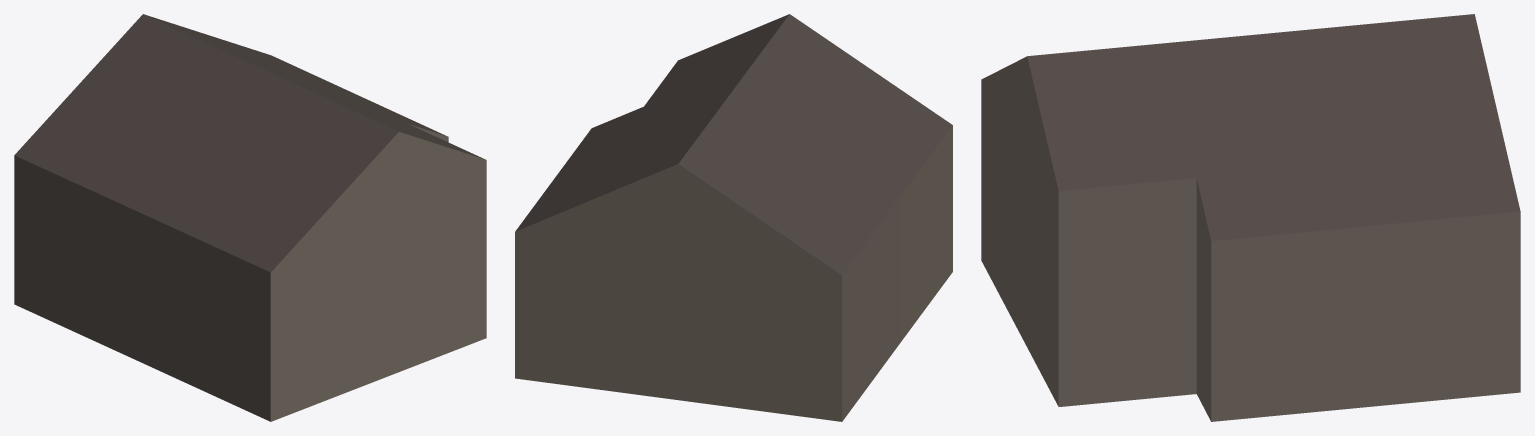
3 views of the same model, side by side, from view 1: azimuth 30°, elevation 25°; view 2: azimuth 150°, elevation 25°; view 3: azimuth 270°, elevation 25° (orthographic). The views are drawn at different scales.
Parts seen in each view (by area): view 1: HP-w1202561782; view 2: HP-w1202561782; view 3: HP-w1202561782.
Part boxes in pixels (x1,y1,x2,y2): HP-w1202561782: (14, 14, 486, 421); HP-w1202561782: (515, 14, 952, 421); HP-w1202561782: (981, 14, 1520, 421).
Bounding box in the file's own units: 21.78 × 14.52 × 24.35.
